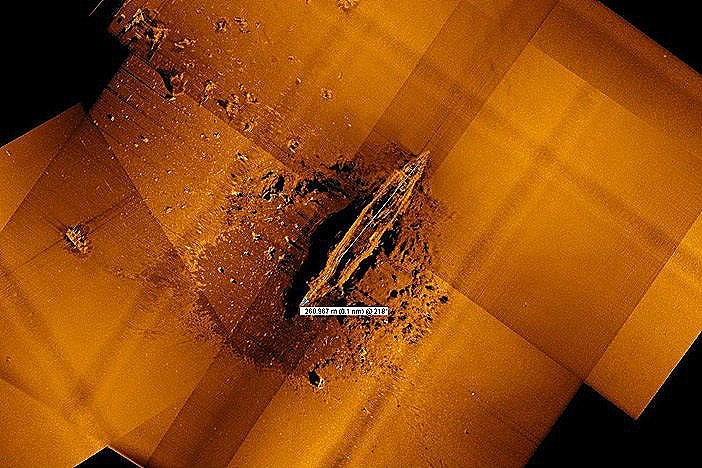ship: (298, 149, 431, 306)
